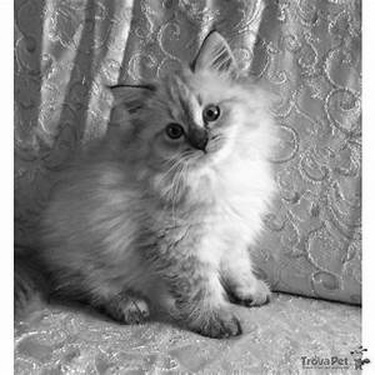cat: (49, 33, 274, 337)
